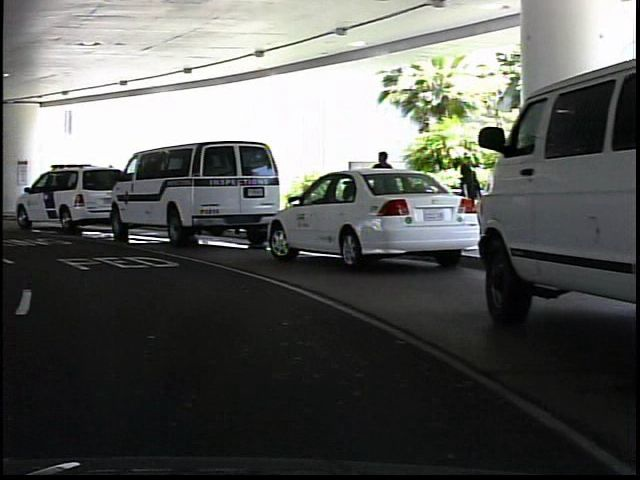person: (449, 155, 482, 245), (366, 146, 399, 235)
